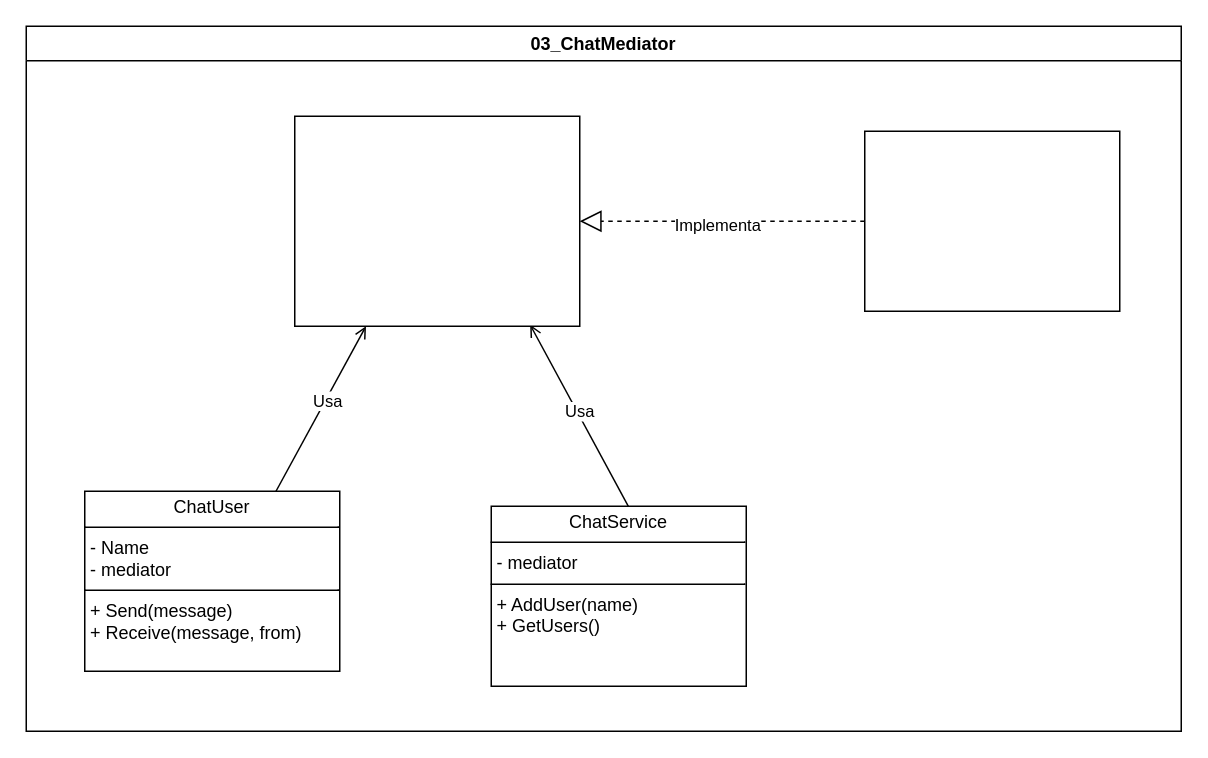
Some shapes in this 1208 by 758 pixel diagram are drawn without their labels. The shapes that lost their labels are listed below. From the top down, each one's centre as x and y in pixels, then its label:
At pixel 436 220: "<<Interface>> IChatMediator + Register(user) + Send(message, sender) + Users".
At pixel 991 220: "ChatRoom - users + Register(user) + Send(message, sender".
